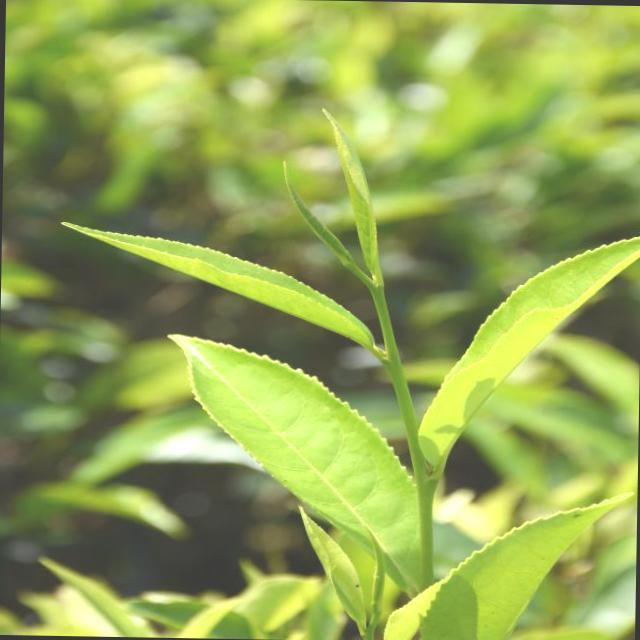Stem: (385, 353, 409, 393)
